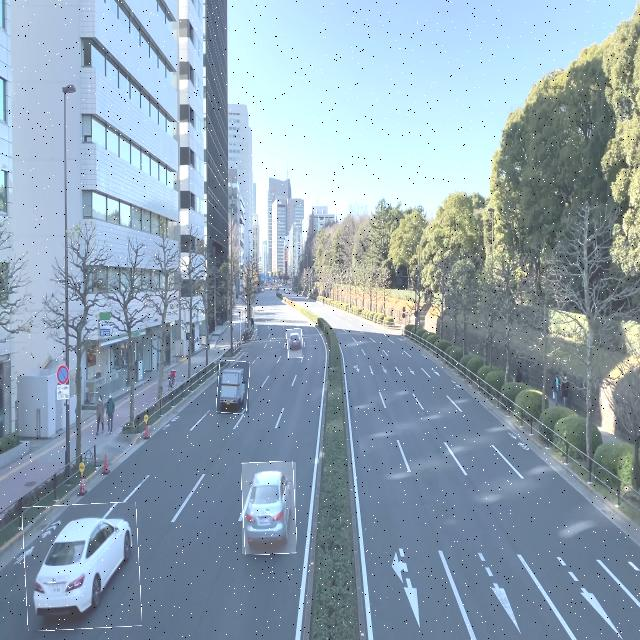Car: (24, 504, 141, 630), (242, 462, 296, 554), (217, 361, 249, 414), (287, 329, 302, 358)
